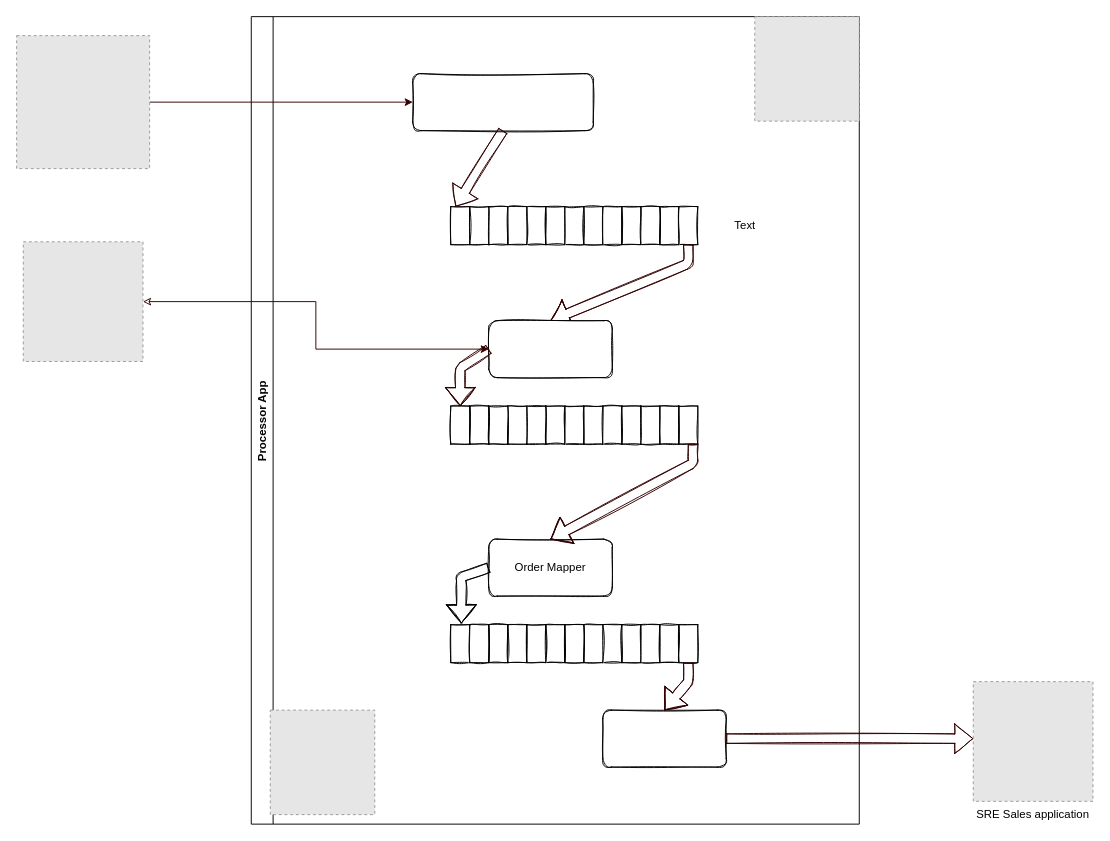
The diagram is 1110 pixels wide and 841 high, and some of its shapes have lost their labels. Grey dashed boxes stand in for pictures. The centre of each missing label's shape, as x and y in pixels:
Order Details Processor: pixel 550 349
Result Post: pixel 664 738
